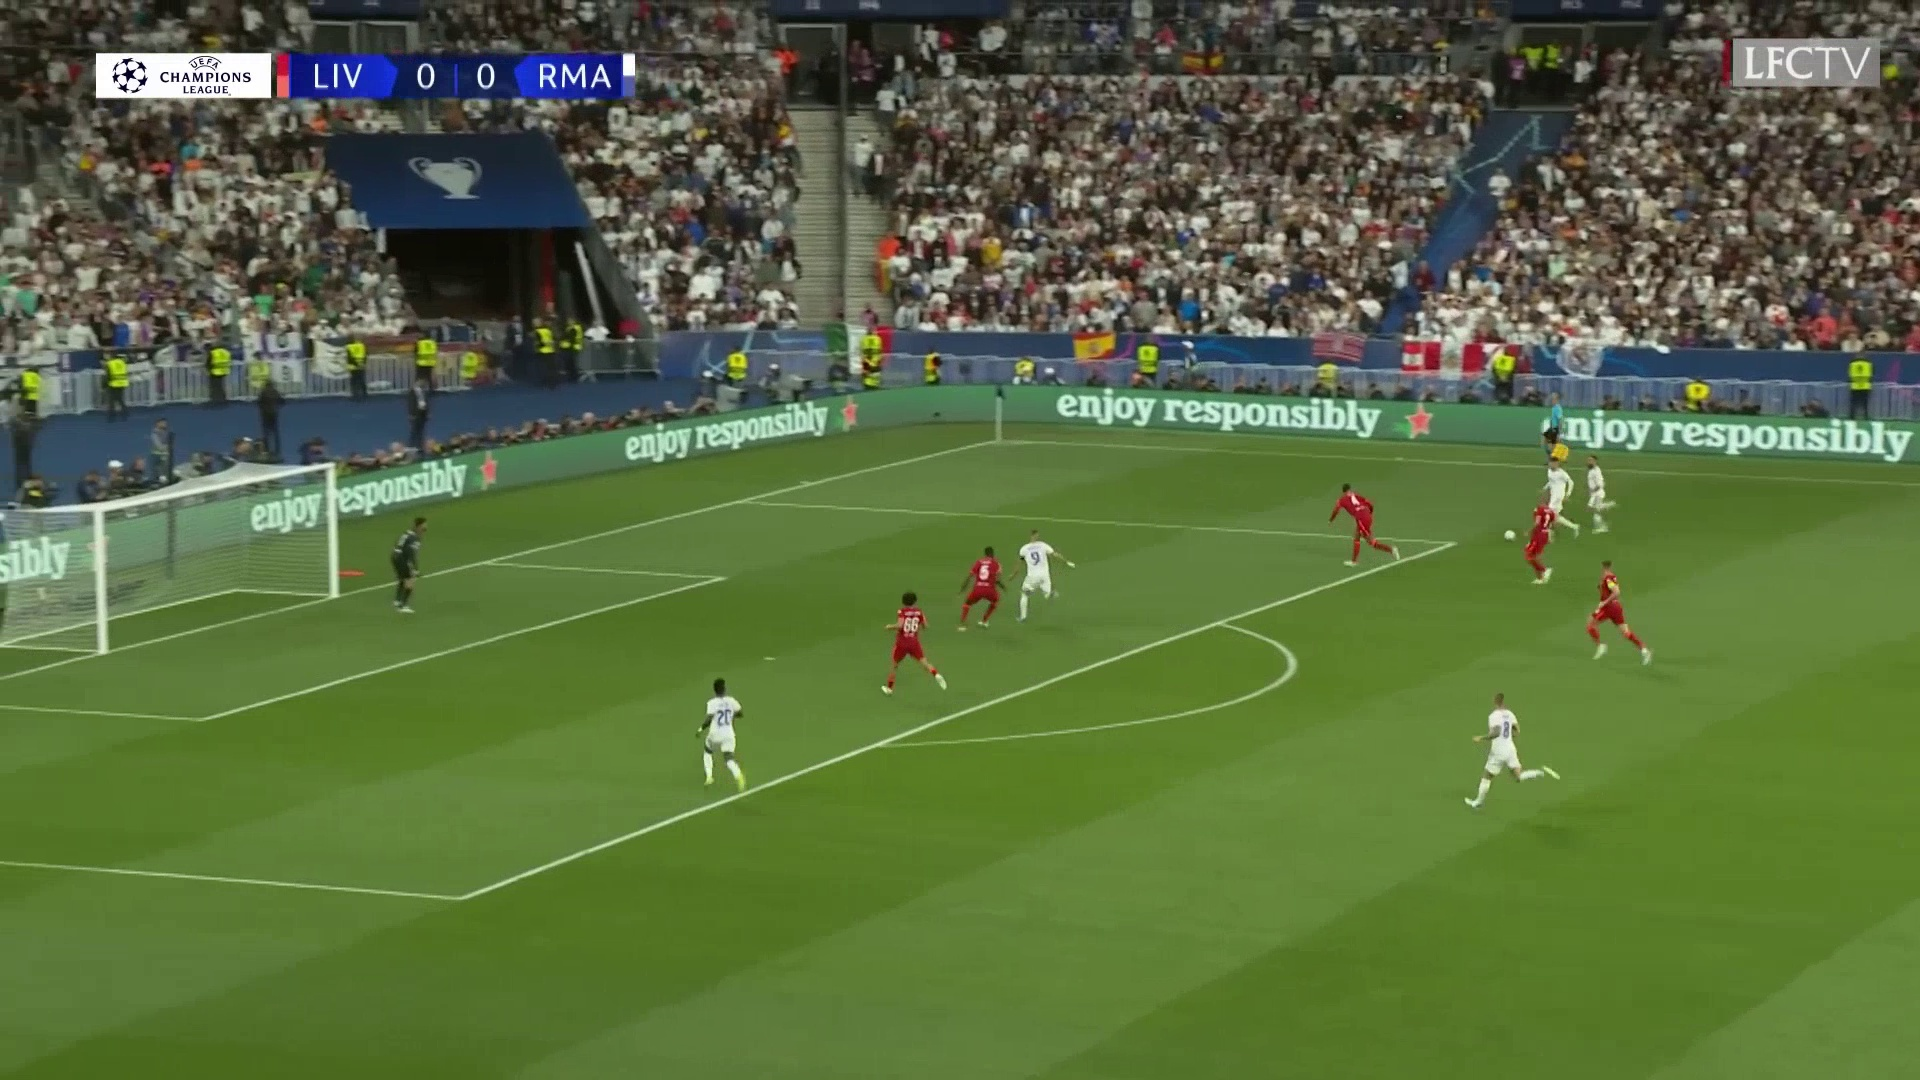ball: (1500, 522, 1523, 545)
player 1: (1539, 457, 1579, 534)
player 12: (388, 509, 438, 625)
player 13: (1323, 472, 1399, 571)
player 14: (886, 590, 952, 713)
player 15: (1510, 504, 1560, 586)
player 16: (957, 537, 1006, 634)
player 17: (1579, 550, 1655, 670)
player 2: (1579, 446, 1638, 539)
player 3: (694, 675, 759, 797)
player 4: (1006, 522, 1071, 616)
player 5: (1463, 690, 1558, 812)
